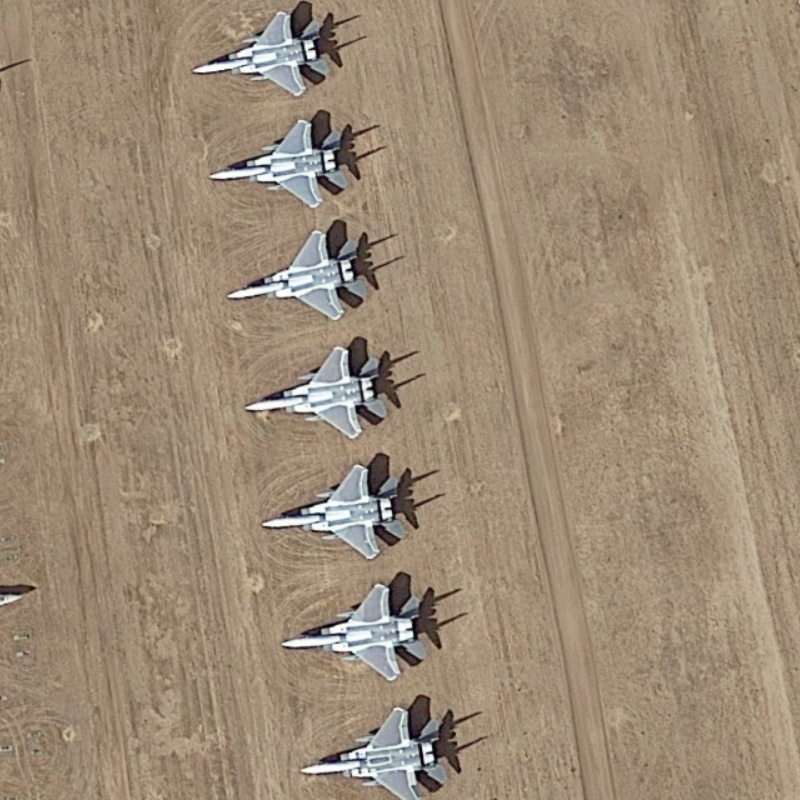A13: (272, 578, 447, 687), (241, 333, 405, 447), (218, 220, 392, 327), (258, 453, 423, 563), (209, 114, 376, 213), (184, 6, 346, 106), (293, 700, 449, 800)
